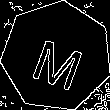M_N: (26, 25, 87, 88)
